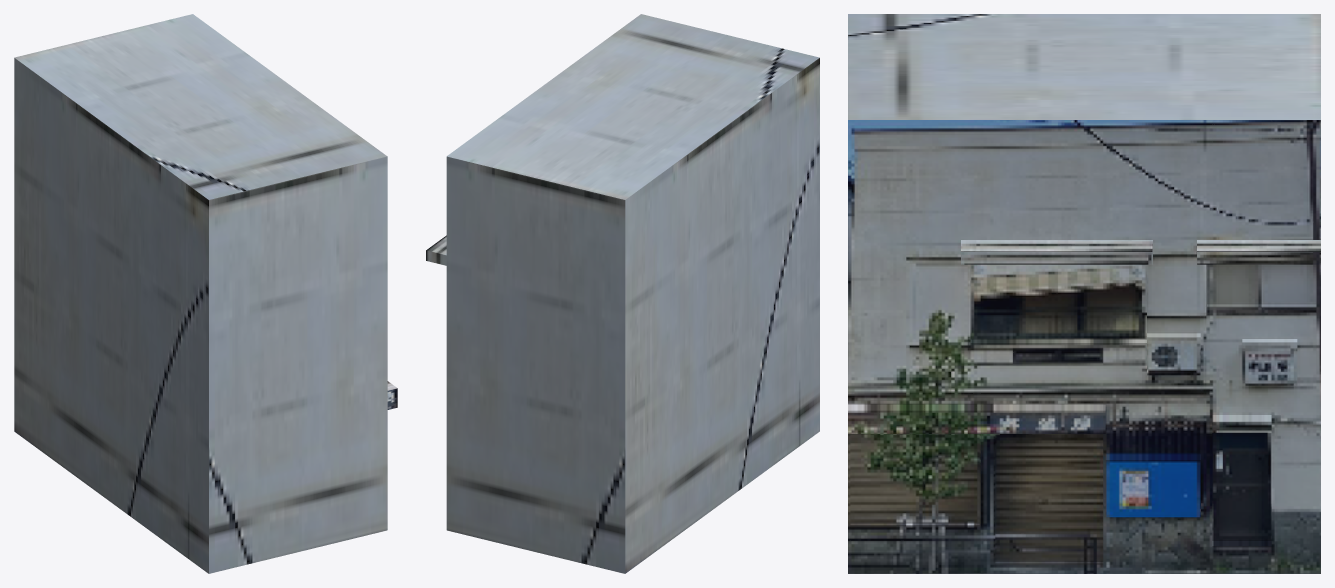
Rendered from ps1_style_japanese_office.glb.
3 renders of one model, left to right at view 1: azimuth 30°, elevation 25°; view 2: azimuth 150°, elevation 25°; view 3: azimuth 270°, elevation 25°, orthographic. The views are drawn at different scales.
Parts seen in each view (by area): view 1: Cube; view 2: Cube; view 3: Cube.
Boxes of the visible parts, x1=… form: Cube: x1=14, y1=14, x2=397, y2=573; Cube: x1=426, y1=14, x2=819, y2=573; Cube: x1=848, y1=14, x2=1320, y2=573.
Size of the model in its own units: 3.93 by 7.05 by 6.65.
1 material, 1 textured.
